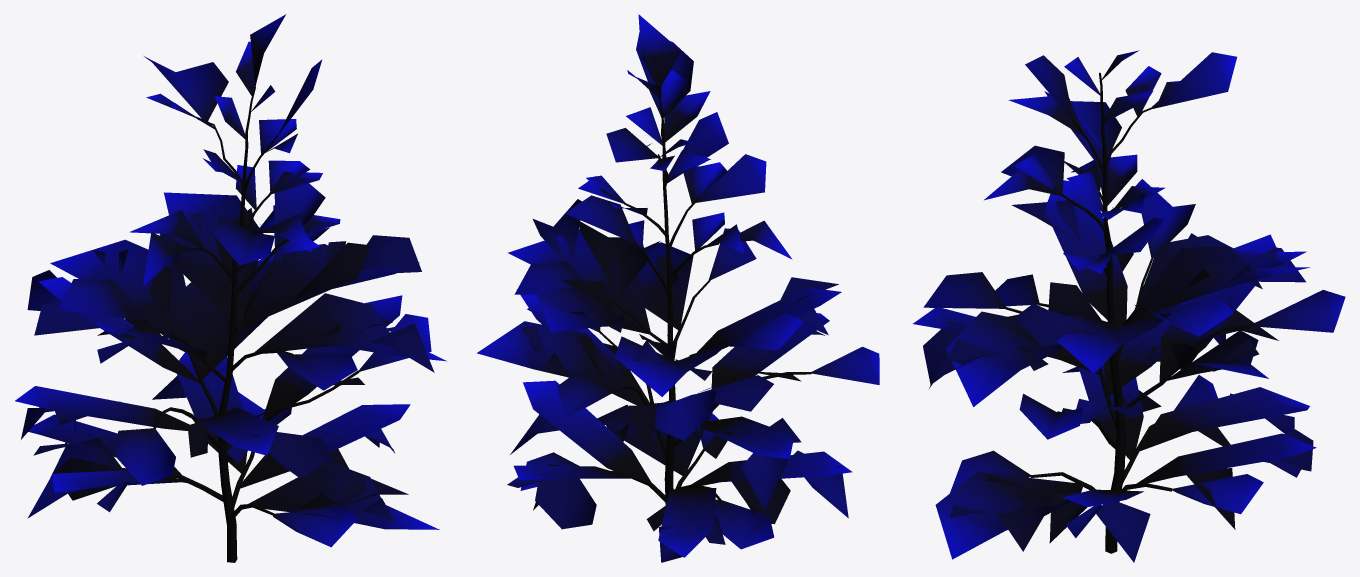
Rendered from SM_EuropeanBeech_02.fbx.
The picture shows the model from 3 angles, left to right: view 1: azimuth 30°, elevation 25°; view 2: azimuth 150°, elevation 25°; view 3: azimuth 270°, elevation 25°; orthographic projection. The views are drawn at different scales.
Visible parts, largest first — view 1: SM_EuropeanBeech_02_LOD0; view 2: SM_EuropeanBeech_02_LOD0; view 3: SM_EuropeanBeech_02_LOD0.
Boxes of the visible parts, box(x1,y1,x2,y2) form: SM_EuropeanBeech_02_LOD0: box(15, 14, 446, 562); SM_EuropeanBeech_02_LOD0: box(477, 14, 879, 562); SM_EuropeanBeech_02_LOD0: box(913, 50, 1345, 562).
Size of the model in its own units: 133 by 130 by 184.
